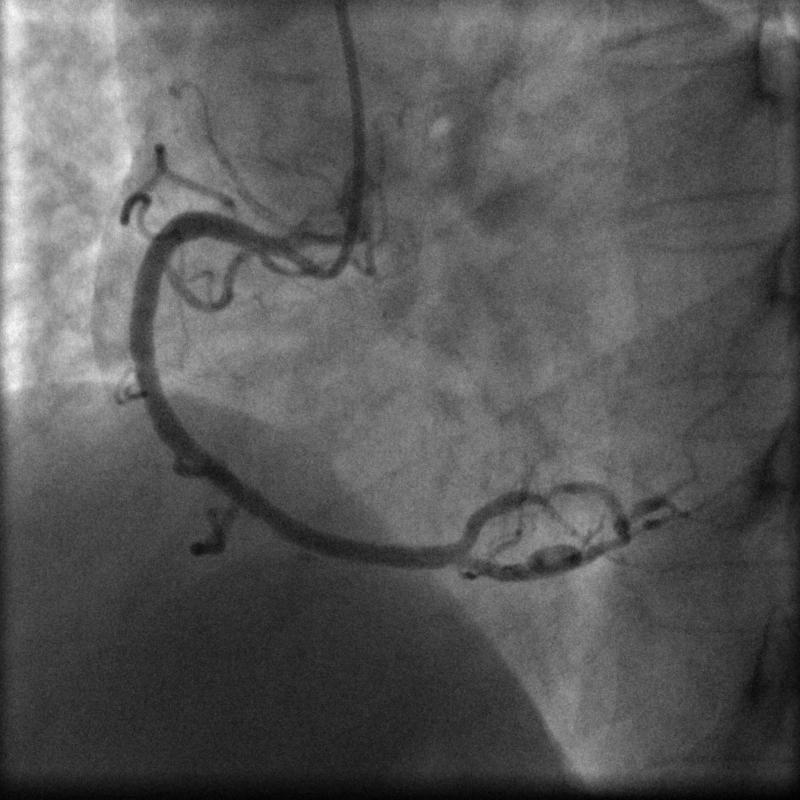Stenosis: (526, 484, 572, 507)
